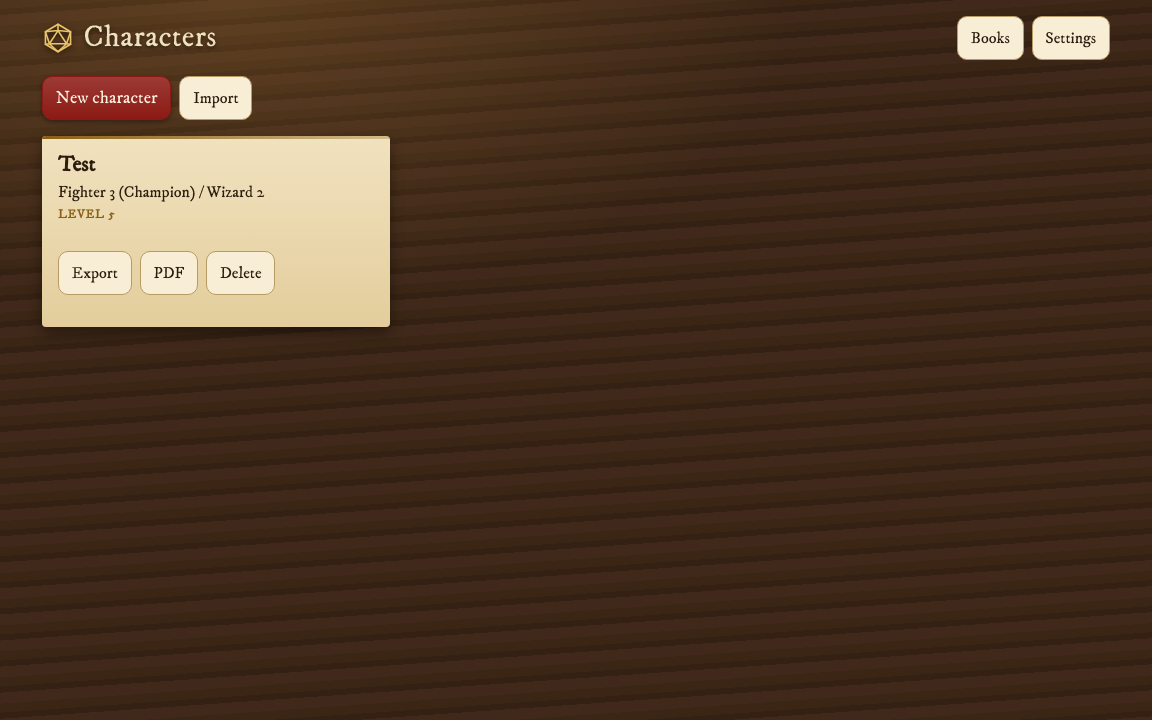
Scenario: character list › shows the error box when the list cannot be read again after a delete
Step 1. Click the button "Delete" → (241, 274), box x1=206 y1=252 x2=275 y2=296
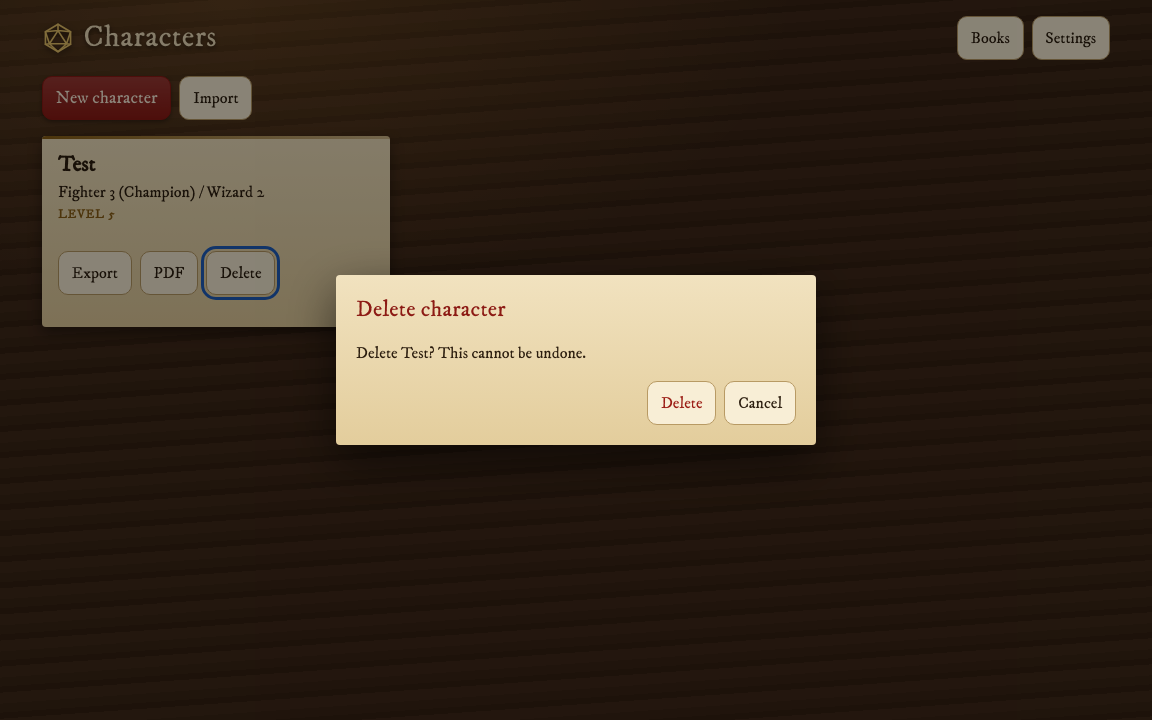
Step 2. Click the button with class "danger" → (682, 403), box x1=647 y1=381 x2=716 y2=425
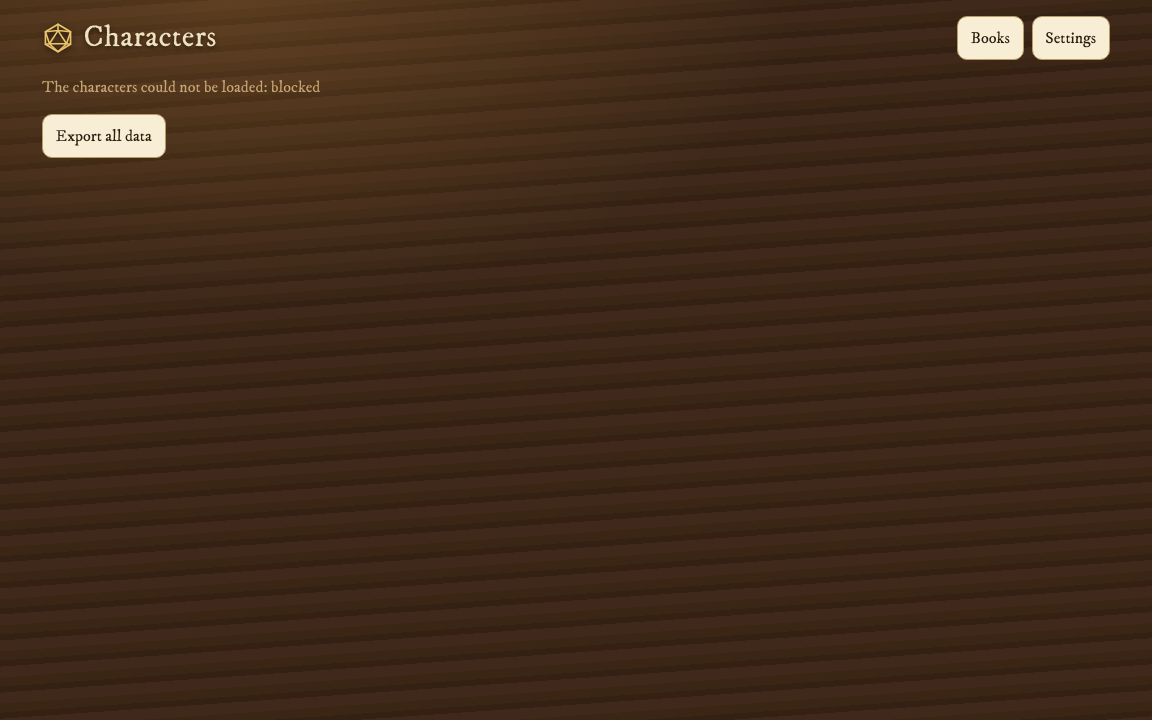
Expected: the message reads "The characters could not be loaded: blocked", x1=42 y1=77 x2=320 y2=97
Expected: the link "Test" is gone
